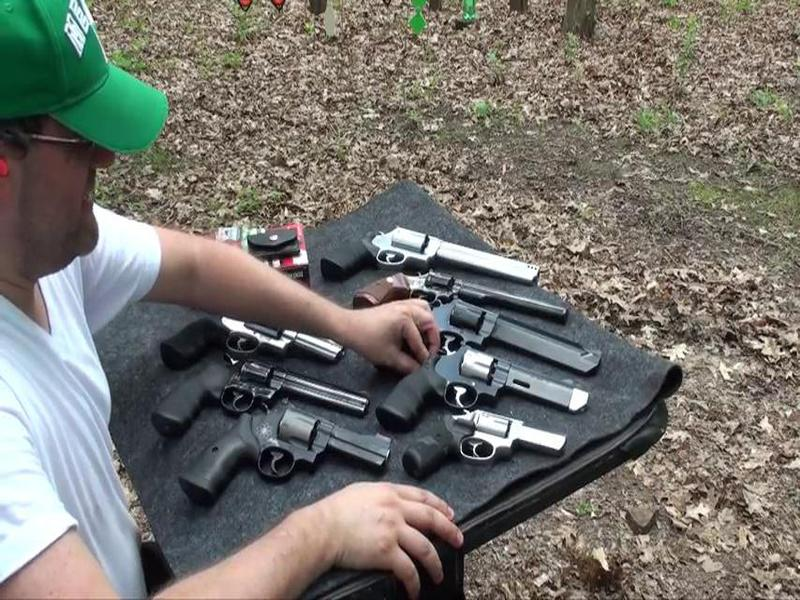Revolver: (167, 408, 392, 517)
